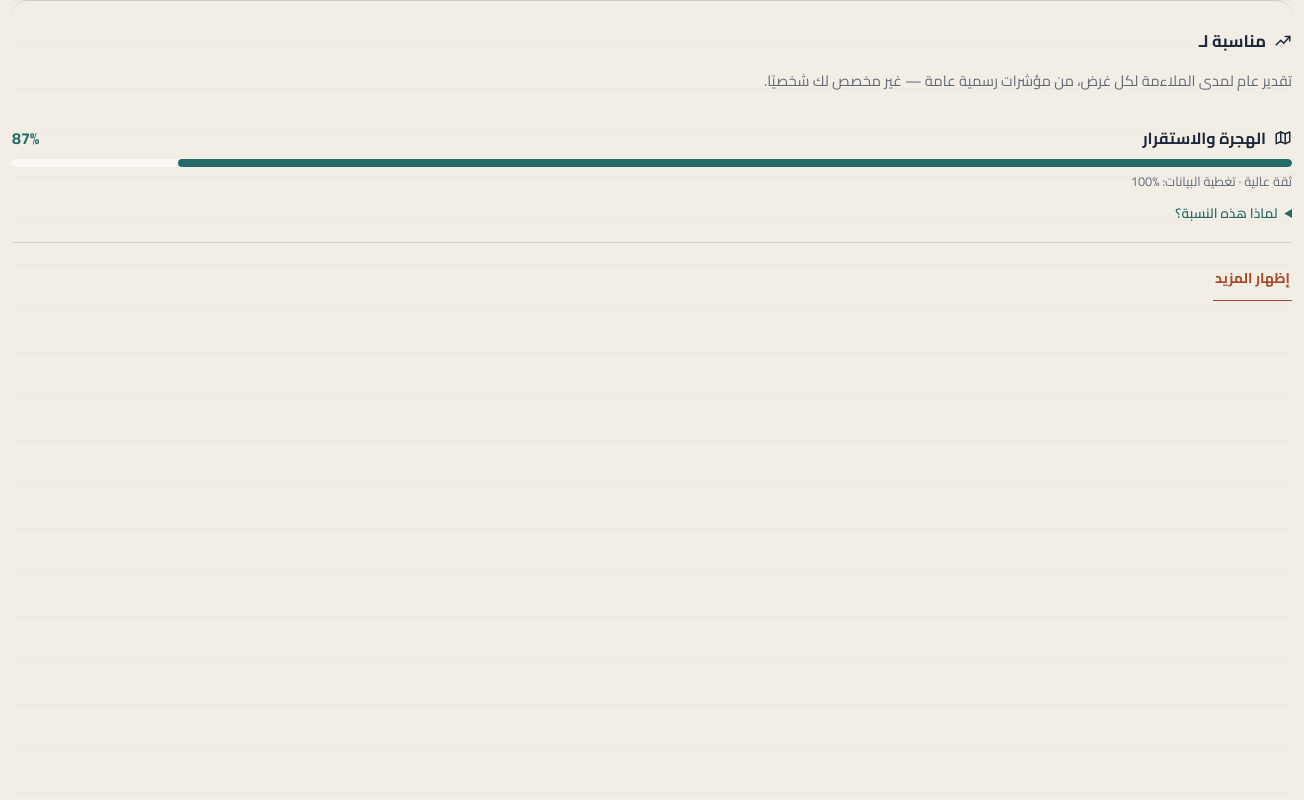
Test case: CountrySuitability against the real committed snapshot › renders the Arabic purpose label and title in Arabic
This screenshot has width=1304, height=800.
Expected: the heading "مناسبة لـ" is shown, [1199,25,1292,57]
Click the button "إظهار المزيد" at coordinates (1252, 279), box [1213,257,1292,301]
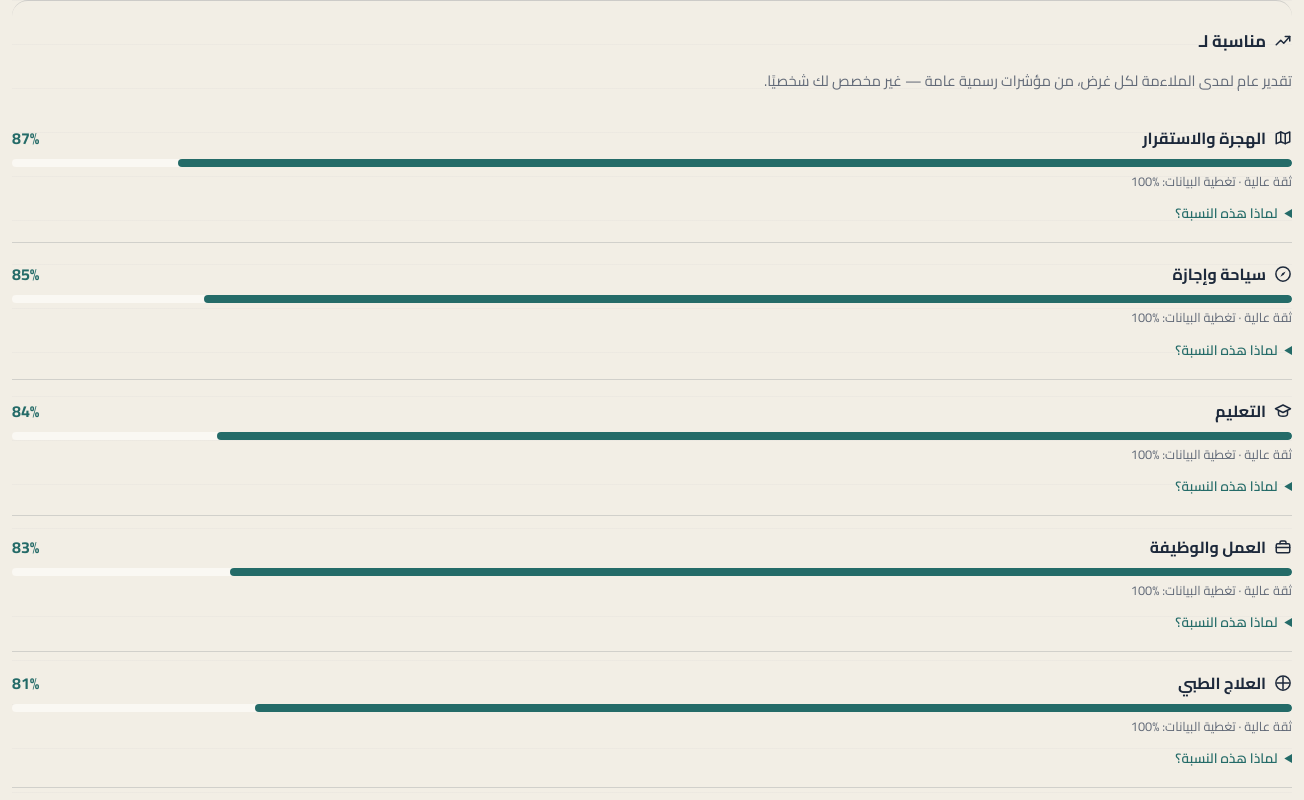
Expected: the text "سياحة وإجازة" is shown, [1173,259,1266,289]
